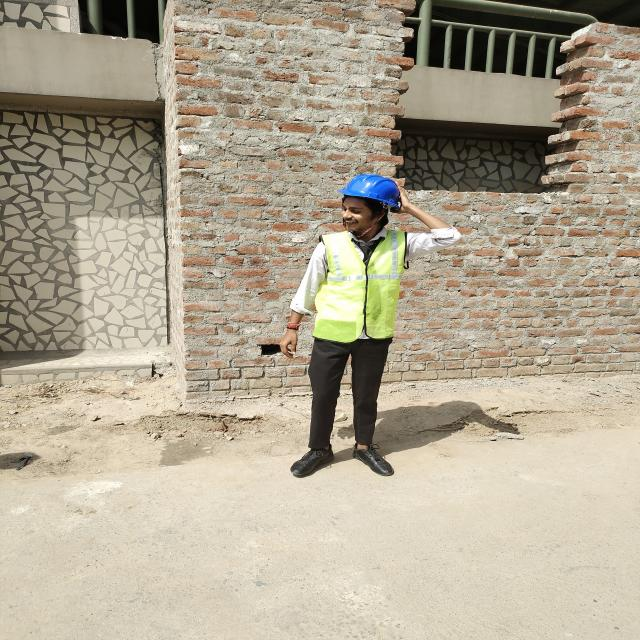safe: (291, 174, 411, 477)
